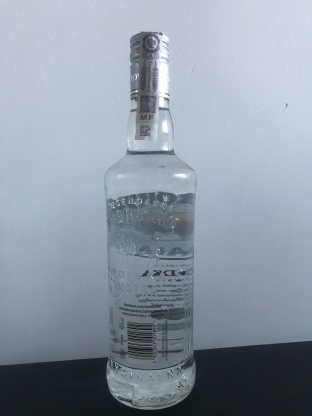nakretka: (127, 27, 172, 104)
